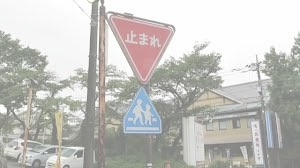Regulatory_sign_triangle: (108, 9, 174, 86)
